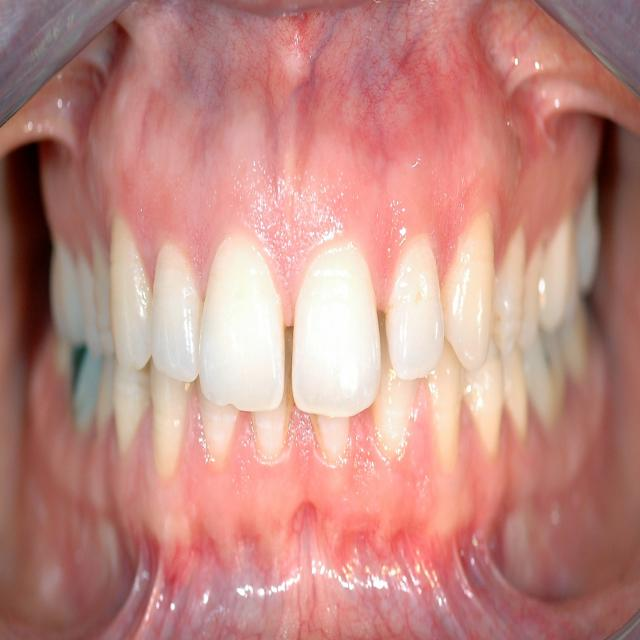tooth: (208, 262, 281, 397), (300, 273, 370, 402), (441, 225, 495, 375), (103, 240, 152, 370), (148, 260, 202, 377), (160, 386, 213, 498), (388, 262, 442, 349), (533, 250, 586, 319), (200, 406, 238, 482), (434, 371, 467, 456), (500, 253, 526, 347), (384, 375, 420, 436), (254, 407, 286, 454), (321, 426, 347, 455)
